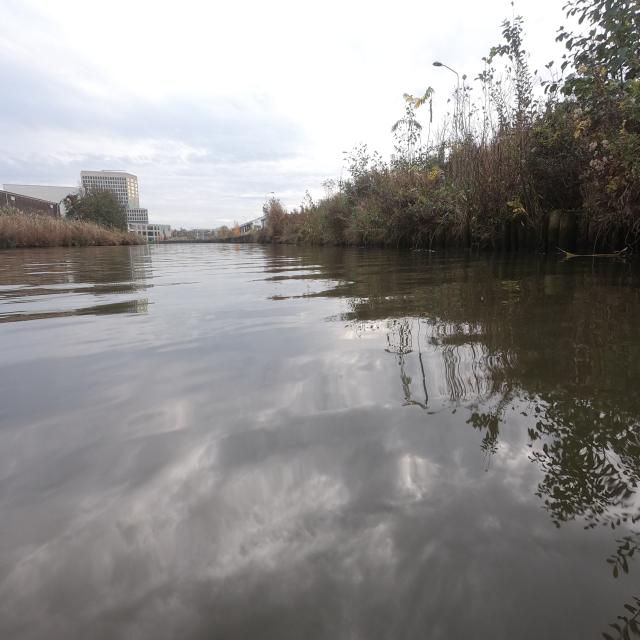reed: (263, 0, 640, 253), (1, 208, 145, 247)
sky: (1, 2, 502, 225)
water: (1, 240, 638, 639)
